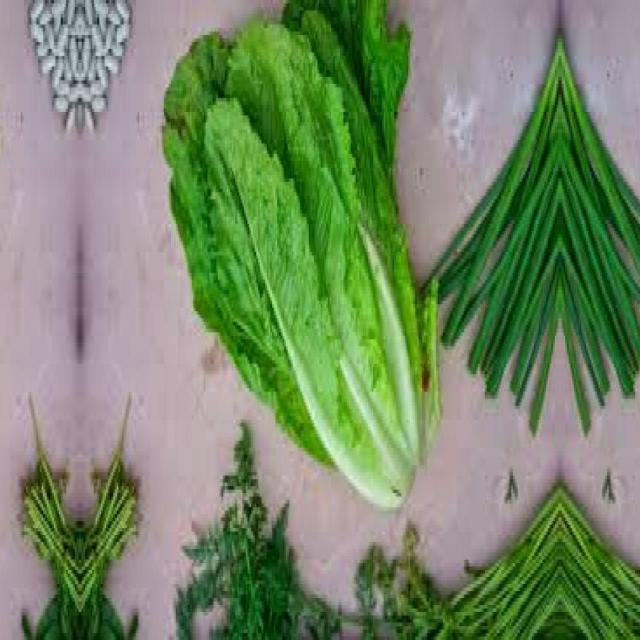healthy: (164, 0, 443, 514)
